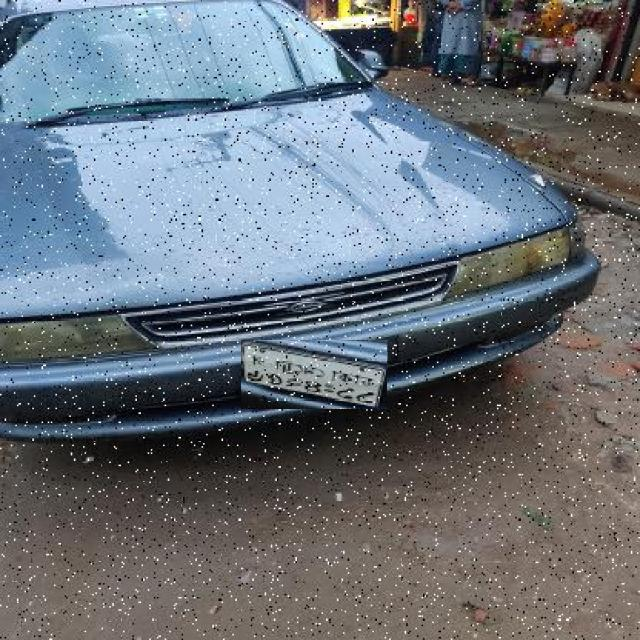numberplate: (242, 340, 388, 409)
